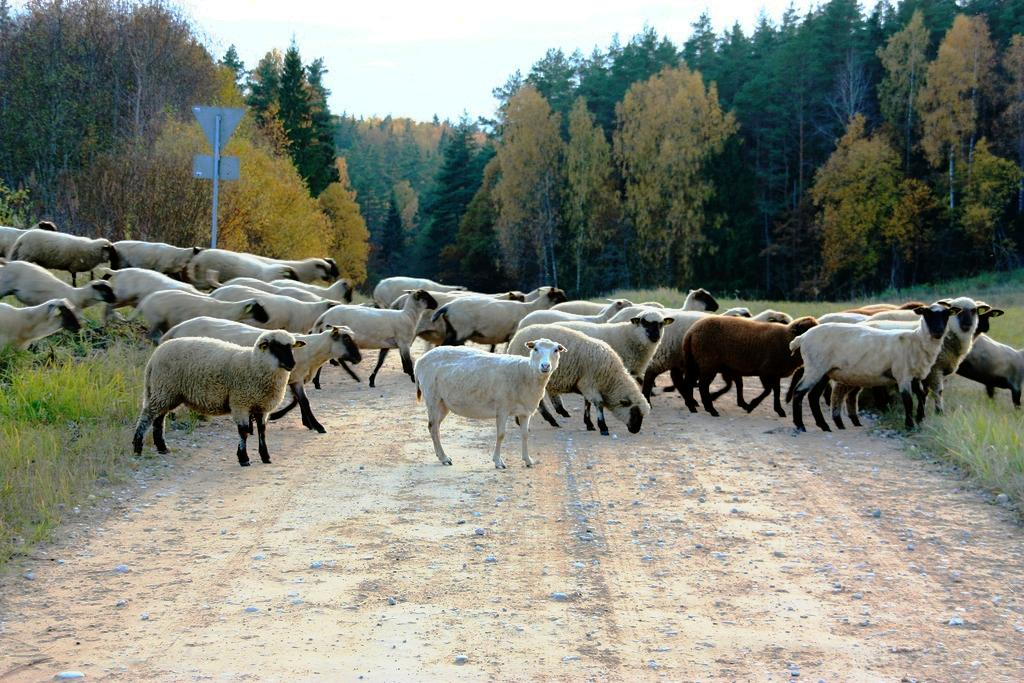Sheep: (132, 325, 300, 469), (787, 302, 962, 435), (161, 316, 355, 431), (408, 340, 574, 474), (837, 297, 993, 424), (849, 302, 1005, 422), (635, 309, 794, 418), (682, 310, 826, 429), (371, 284, 530, 390), (532, 307, 668, 430), (680, 316, 819, 423), (612, 306, 742, 408), (312, 288, 433, 388), (430, 292, 562, 355), (127, 286, 271, 343), (104, 268, 213, 332), (191, 243, 340, 288), (1, 262, 114, 320), (4, 227, 114, 286), (616, 285, 719, 348), (210, 288, 340, 333), (0, 296, 84, 364), (108, 240, 202, 282), (376, 276, 481, 310), (0, 217, 63, 258), (257, 280, 359, 304), (608, 304, 664, 324), (388, 292, 422, 310), (419, 283, 471, 294)
